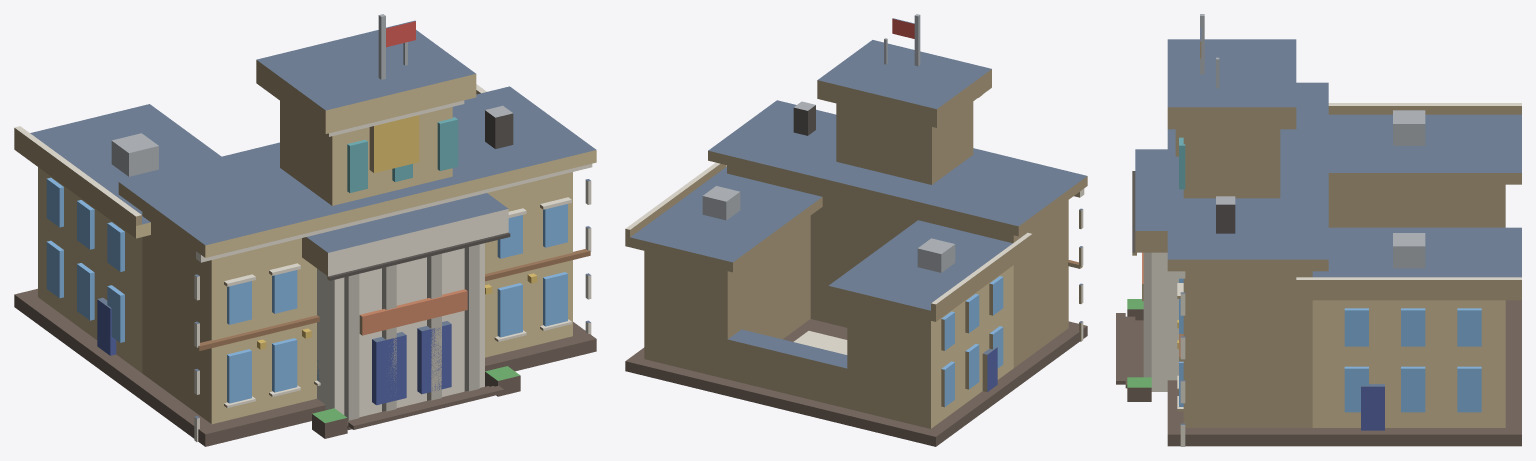
File: EducationDistrict.fbx
3 renders of one model, left to right at view 1: azimuth 30°, elevation 25°; view 2: azimuth 150°, elevation 25°; view 3: azimuth 270°, elevation 25°, orthographic. The views are drawn at different scales.
Parts seen in each view (by area): view 1: EducationDistrict; view 2: EducationDistrict; view 3: EducationDistrict.
Boxes of the visible parts, left/top/right/bottom form: EducationDistrict: left=14, top=14, right=596, bottom=446; EducationDistrict: left=625, top=14, right=1087, bottom=446; EducationDistrict: left=1116, top=14, right=1521, bottom=446.
Size of the model in its own units: 2620 by 2350 by 2520.
